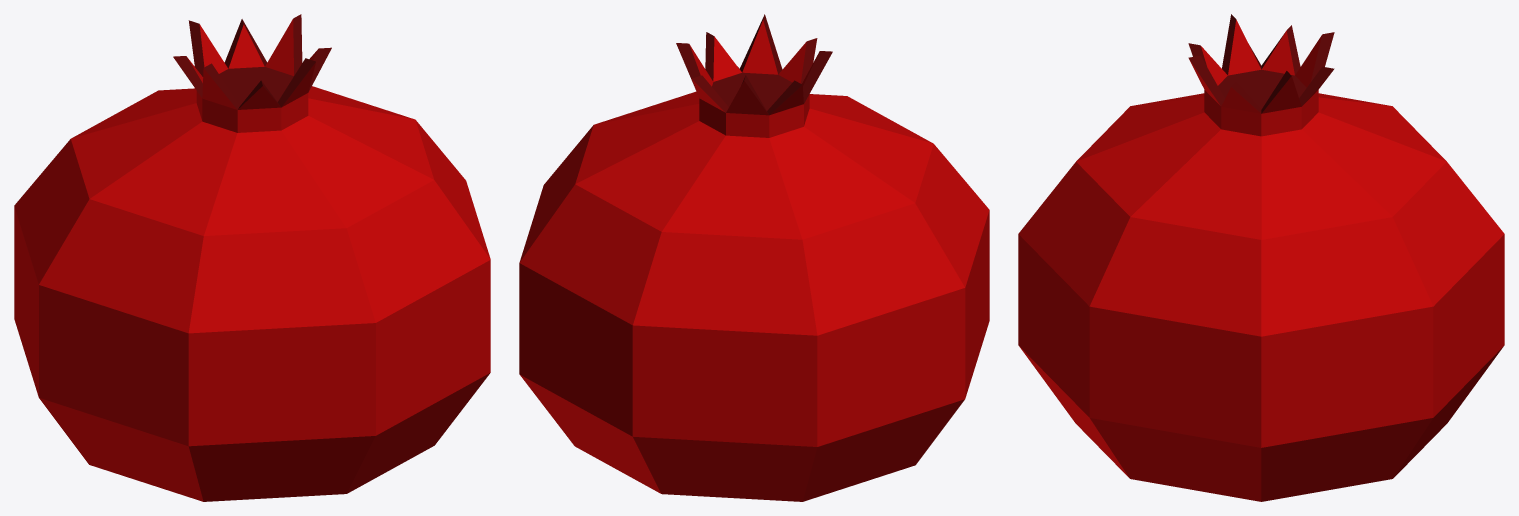
The model's file is pomegranate01.obj.
3 views of the same model, side by side, from view 1: azimuth 30°, elevation 25°; view 2: azimuth 150°, elevation 25°; view 3: azimuth 270°, elevation 25° (orthographic).
Parts seen in each view (by area): view 1: Cylinder; view 2: Cylinder; view 3: Cylinder.
Boxes of the visible parts, x1,y1,x2,y2 form: Cylinder: (14,14,490,501); Cylinder: (519,14,989,501); Cylinder: (1018,14,1504,501).
Bounding box in the file's own units: 0.109 × 0.1032 × 0.109.
Materials: 1 (1 with a texture image).
